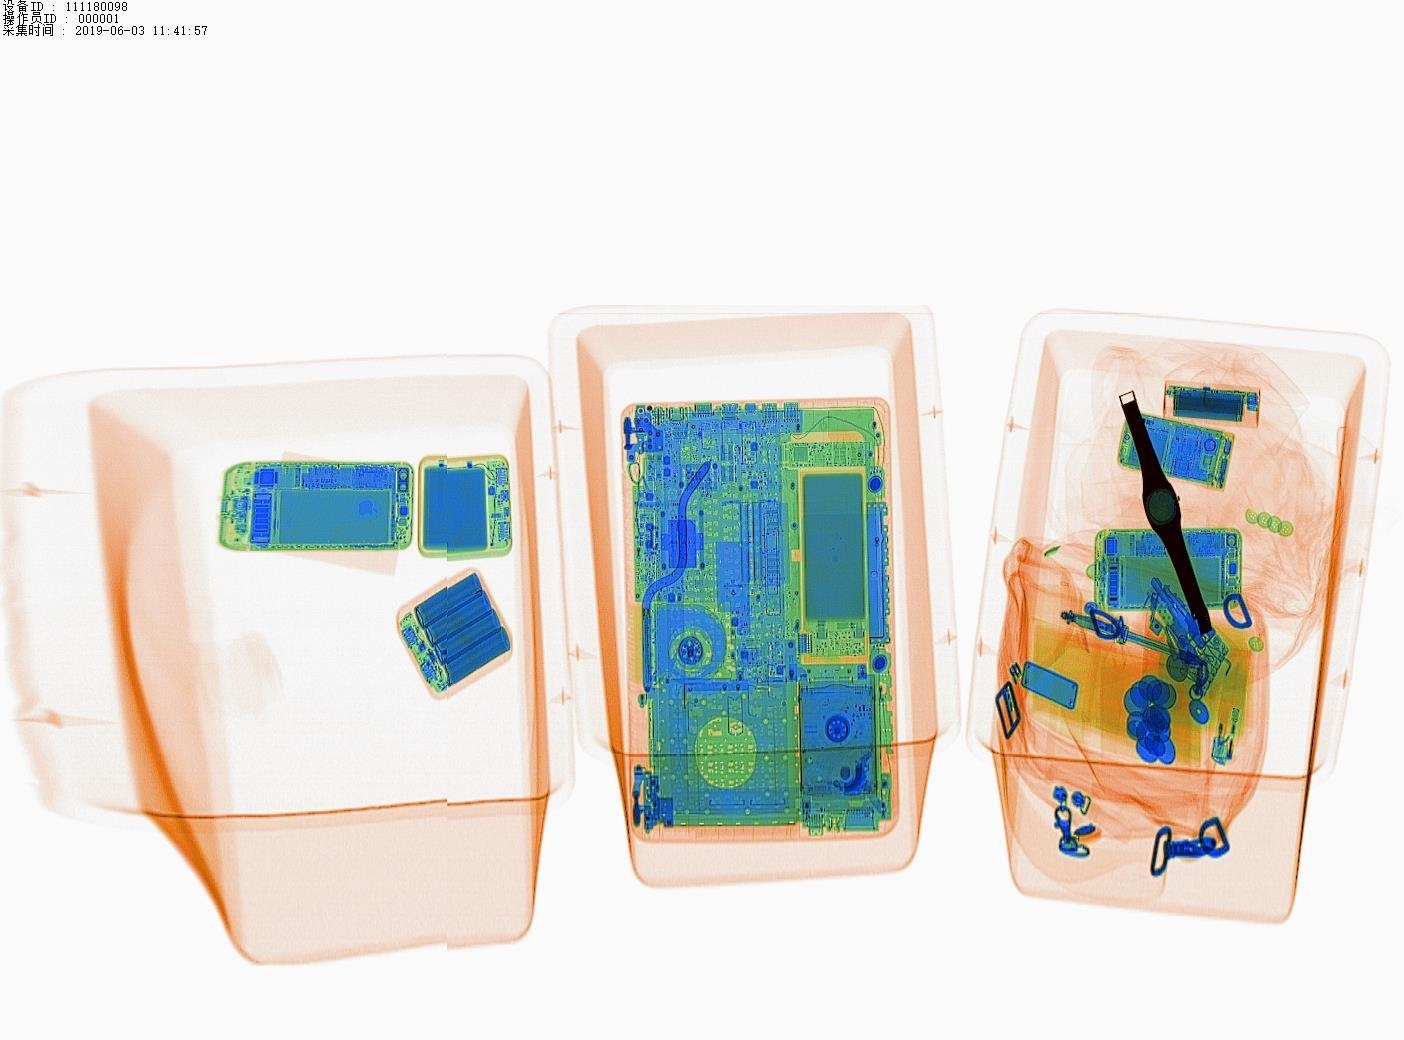NonmetallicFire: (1205, 645, 1259, 780)
